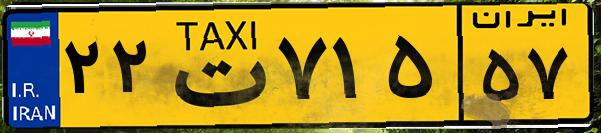1: (330, 28, 385, 110)
2: (57, 26, 110, 100), (110, 28, 158, 98)
5: (385, 28, 445, 110), (475, 38, 525, 113)
7: (270, 28, 330, 110), (525, 38, 570, 115)
ت: (158, 12, 270, 120)
